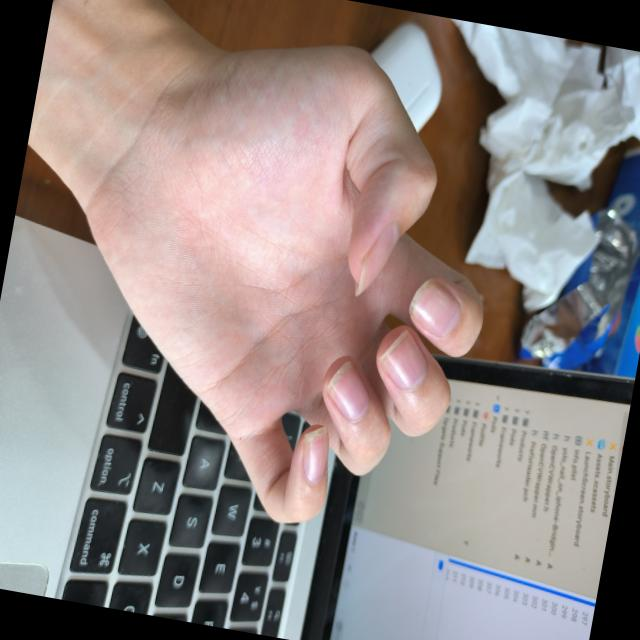Nail: (355, 223, 397, 296), (408, 279, 459, 337), (377, 330, 425, 389), (326, 360, 368, 419), (302, 427, 326, 482)
